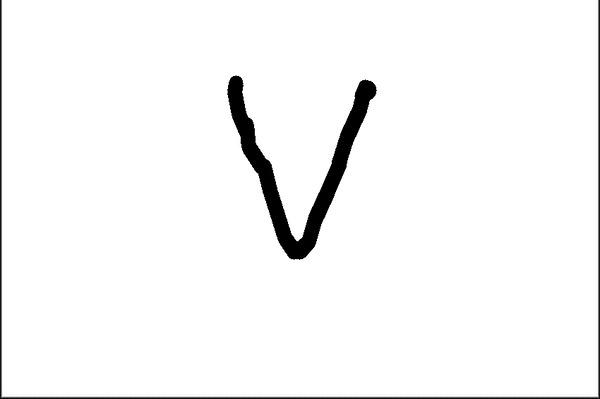V: (219, 68, 383, 266)
